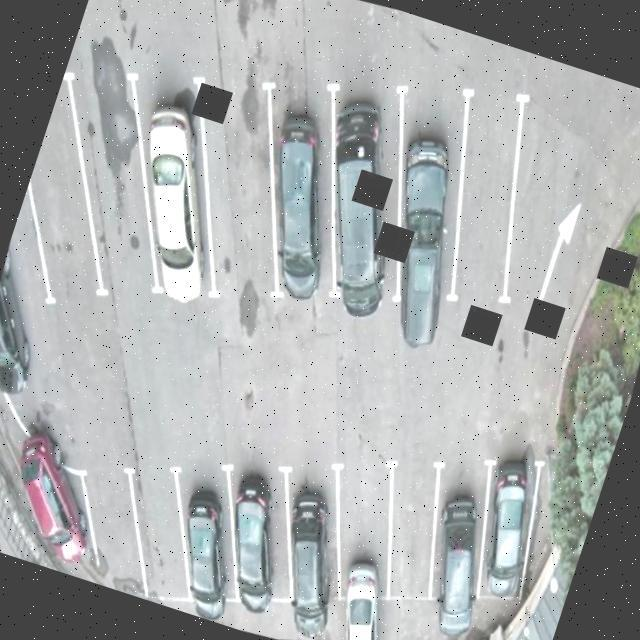space-empty: (3, 40, 222, 314), (136, 66, 324, 322), (396, 70, 580, 327), (0, 63, 161, 317), (89, 442, 232, 614), (47, 436, 188, 600), (349, 448, 470, 612)
space-occupied: (269, 65, 459, 328), (69, 54, 263, 311), (338, 70, 518, 320), (211, 74, 380, 320), (128, 431, 285, 628), (435, 436, 578, 624), (185, 439, 331, 620), (389, 436, 525, 626), (246, 452, 378, 618), (298, 454, 424, 620)
